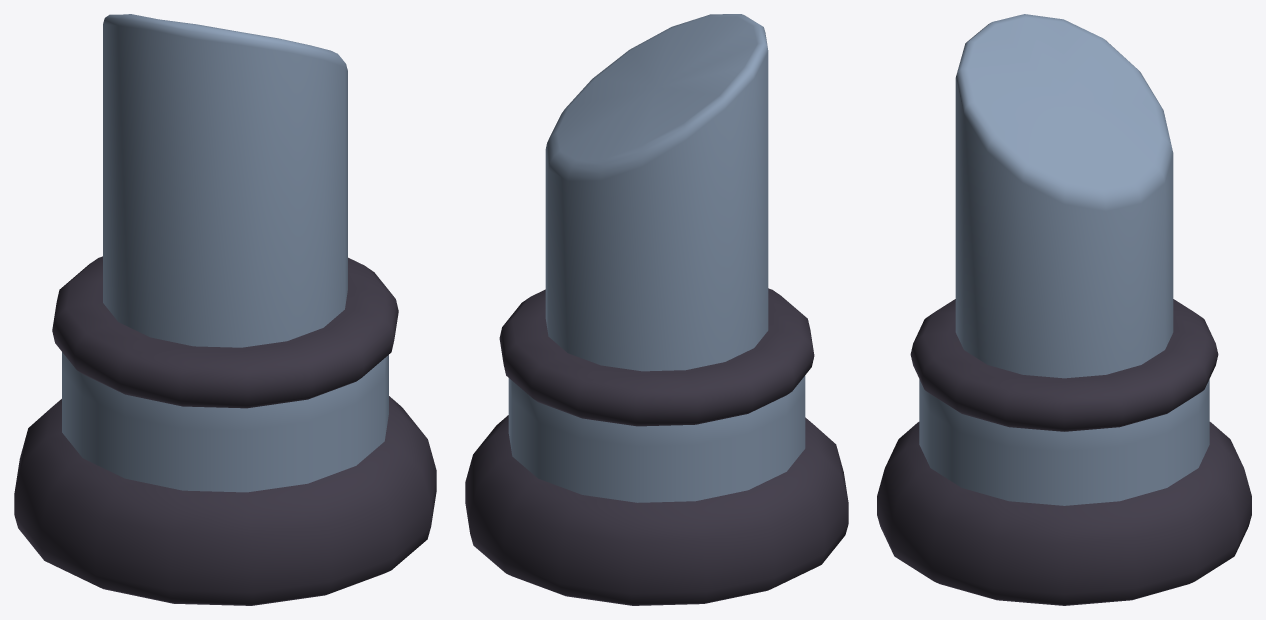
File: column-4.dae
3 views of the same model, side by side, from view 1: azimuth 30°, elevation 25°; view 2: azimuth 150°, elevation 25°; view 3: azimuth 270°, elevation 25° (orthographic). The views are drawn at different scales.
Parts seen in each view (by area): view 1: Cylinder, Cylinder.002, Cylinder.003, Cylinder.001; view 2: Cylinder, Cylinder.002, Cylinder.003, Cylinder.001; view 3: Cylinder, Cylinder.002, Cylinder.003, Cylinder.001.
Part boxes in pixels (x1,y1,x2,y2): Cylinder: (103, 14, 347, 347); Cylinder.002: (14, 396, 436, 605); Cylinder.003: (62, 352, 388, 492); Cylinder.001: (52, 256, 398, 408); Cylinder: (545, 14, 768, 371); Cylinder.002: (465, 415, 848, 605); Cylinder.003: (508, 375, 805, 502); Cylinder.001: (499, 288, 814, 426); Cylinder: (955, 14, 1173, 378); Cylinder.002: (877, 422, 1251, 605); Cylinder.003: (919, 379, 1209, 505); Cylinder.001: (910, 299, 1218, 431).
Size of the model in its own units: 1.03 by 1.03 by 1.46.
